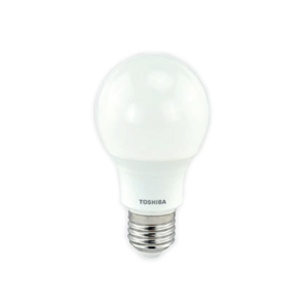Light_bulb: (87, 46, 215, 264)
